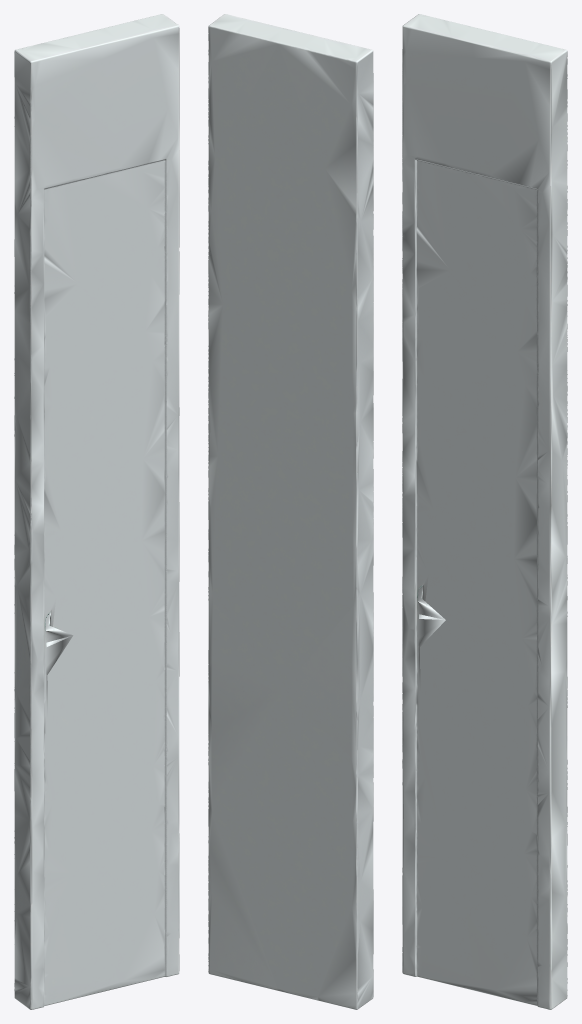
The picture shows the model from 3 angles, left to right: view 1: azimuth 30°, elevation 25°; view 2: azimuth 150°, elevation 25°; view 3: azimuth 330°, elevation 25°; orthographic projection.
Parts seen in each view (by area): view 1: Mesh_0.001; view 2: Mesh_0.001; view 3: Mesh_0.001.
Part boxes in pixels (box(x1,y1,x2,y2)): Mesh_0.001: box(14, 14, 179, 1009); Mesh_0.001: box(208, 14, 373, 1009); Mesh_0.001: box(402, 14, 567, 1009).
Bounding box in the file's own units: 0.2971 × 1.8 × 0.0586.
Materials: 1 (1 with a texture image).
